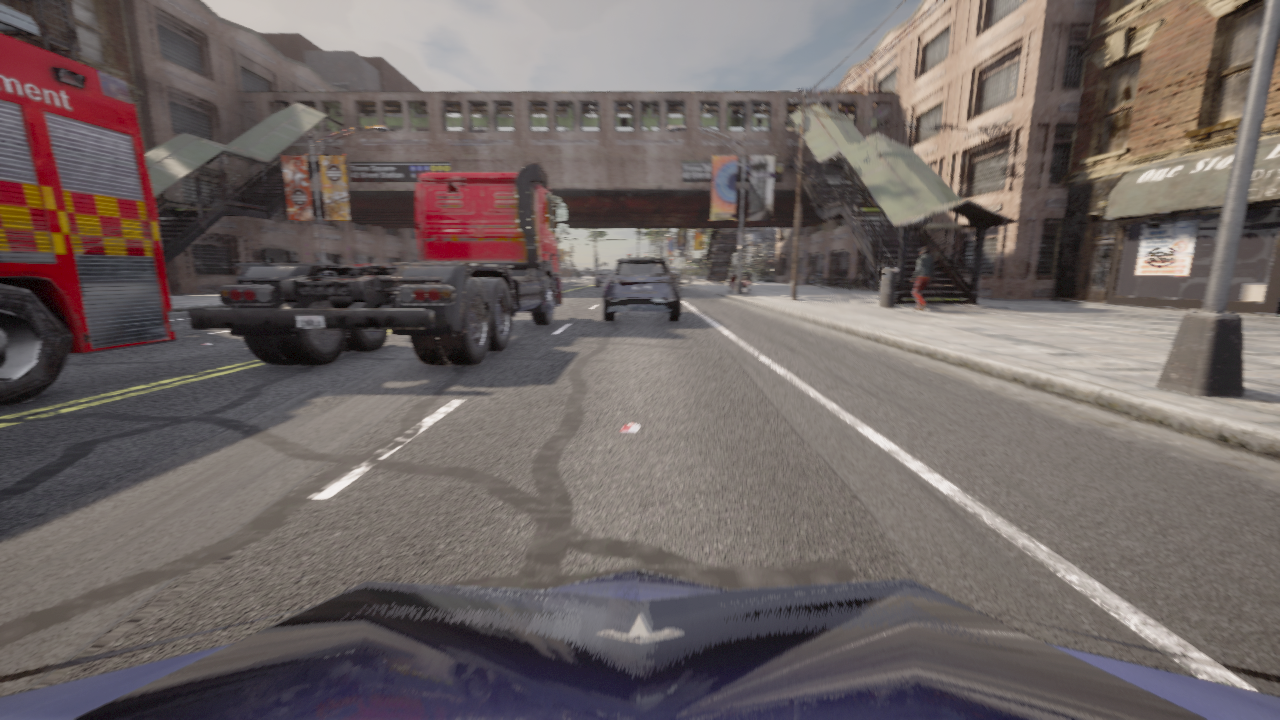cyclist: (0, 569, 1279, 719), (188, 163, 567, 365), (602, 257, 680, 321), (727, 270, 751, 294), (595, 270, 611, 285), (670, 270, 681, 283)
pedestrian: (911, 247, 933, 311)
